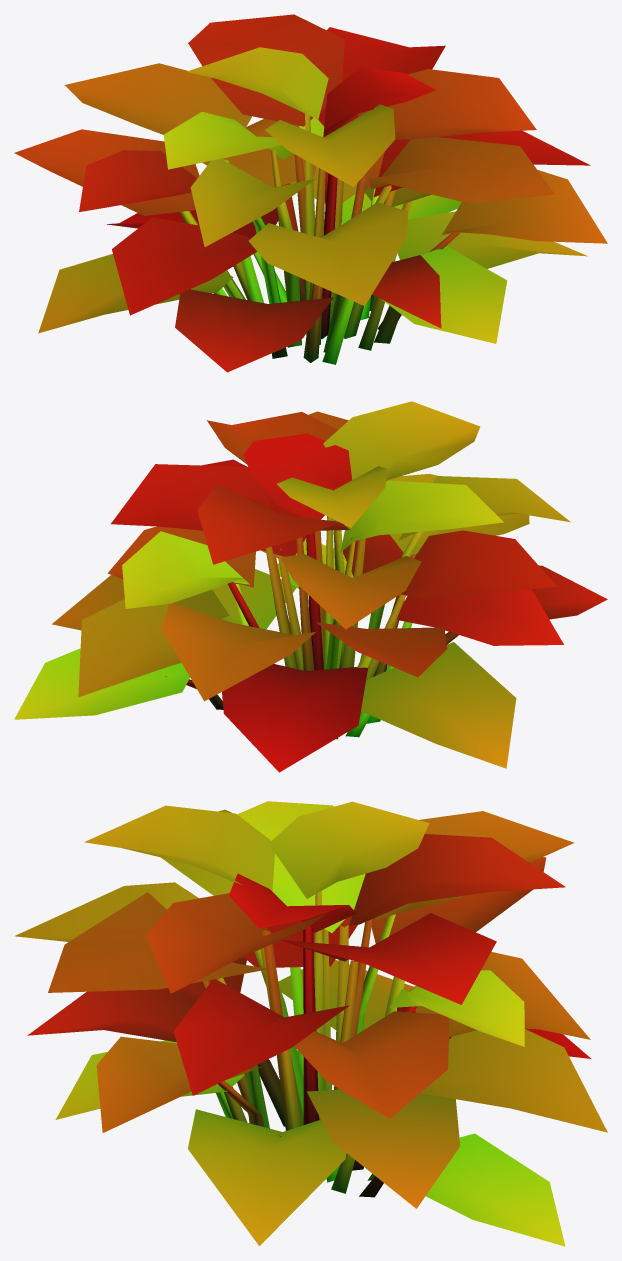
Rendered from G_Hosta_001_S1.FBX.
3 renders of one model, top to bottom at view 1: azimuth 30°, elevation 25°; view 2: azimuth 150°, elevation 25°; view 3: azimuth 270°, elevation 25°, orthographic. The views are drawn at different scales.
Parts seen in each view (by area): view 1: G_Hosta_001_S1_P01_LOD0; view 2: G_Hosta_001_S1_P01_LOD0; view 3: G_Hosta_001_S1_P01_LOD0.
Boxes of the visible parts, box(x1,y1,x2,y2) form: G_Hosta_001_S1_P01_LOD0: box(14, 14, 607, 372); G_Hosta_001_S1_P01_LOD0: box(14, 401, 607, 772); G_Hosta_001_S1_P01_LOD0: box(14, 801, 607, 1246).
Size of what is drawn, in the model's own units: 146 by 75.32 by 134.
